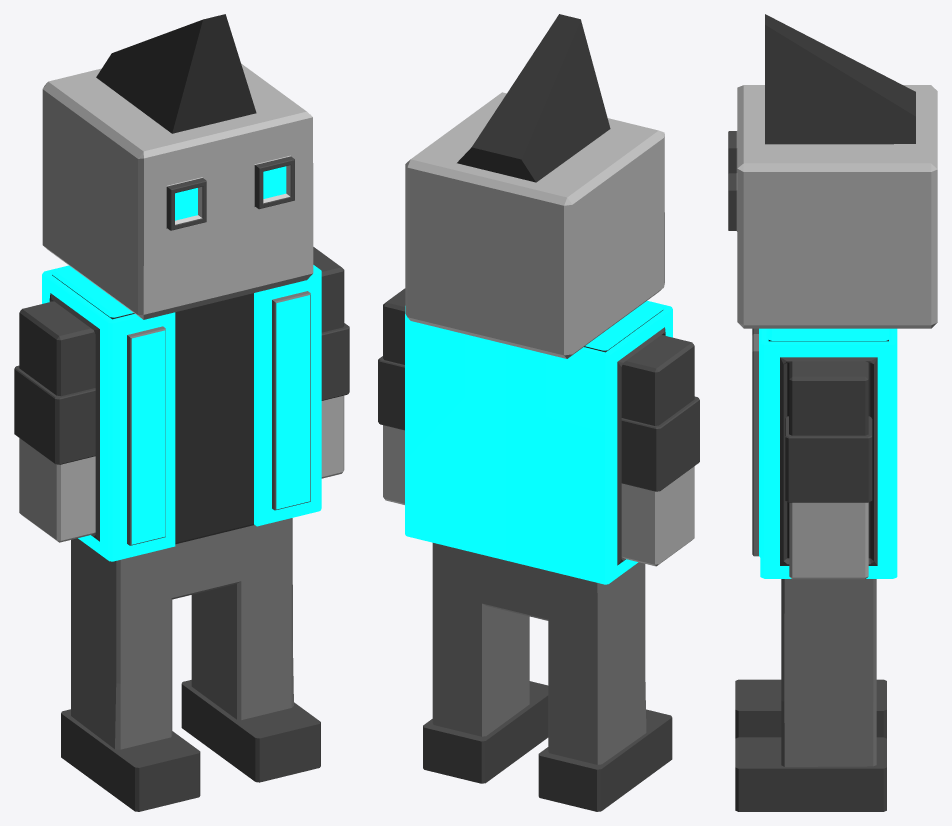
3 renders of one model, left to right at view 1: azimuth 30°, elevation 25°; view 2: azimuth 150°, elevation 25°; view 3: azimuth 270°, elevation 25°, orthographic. The views are drawn at different scales.
Visible parts, largest first — view 1: CH_A; view 2: CH_A; view 3: CH_A.
Boxes of the visible parts, x1,y1,x2,y2 form: CH_A: (14,14,349,811); CH_A: (378,14,699,811); CH_A: (728,14,937,811).
Size of the model in its own units: 68.65 by 170 by 43.02.
